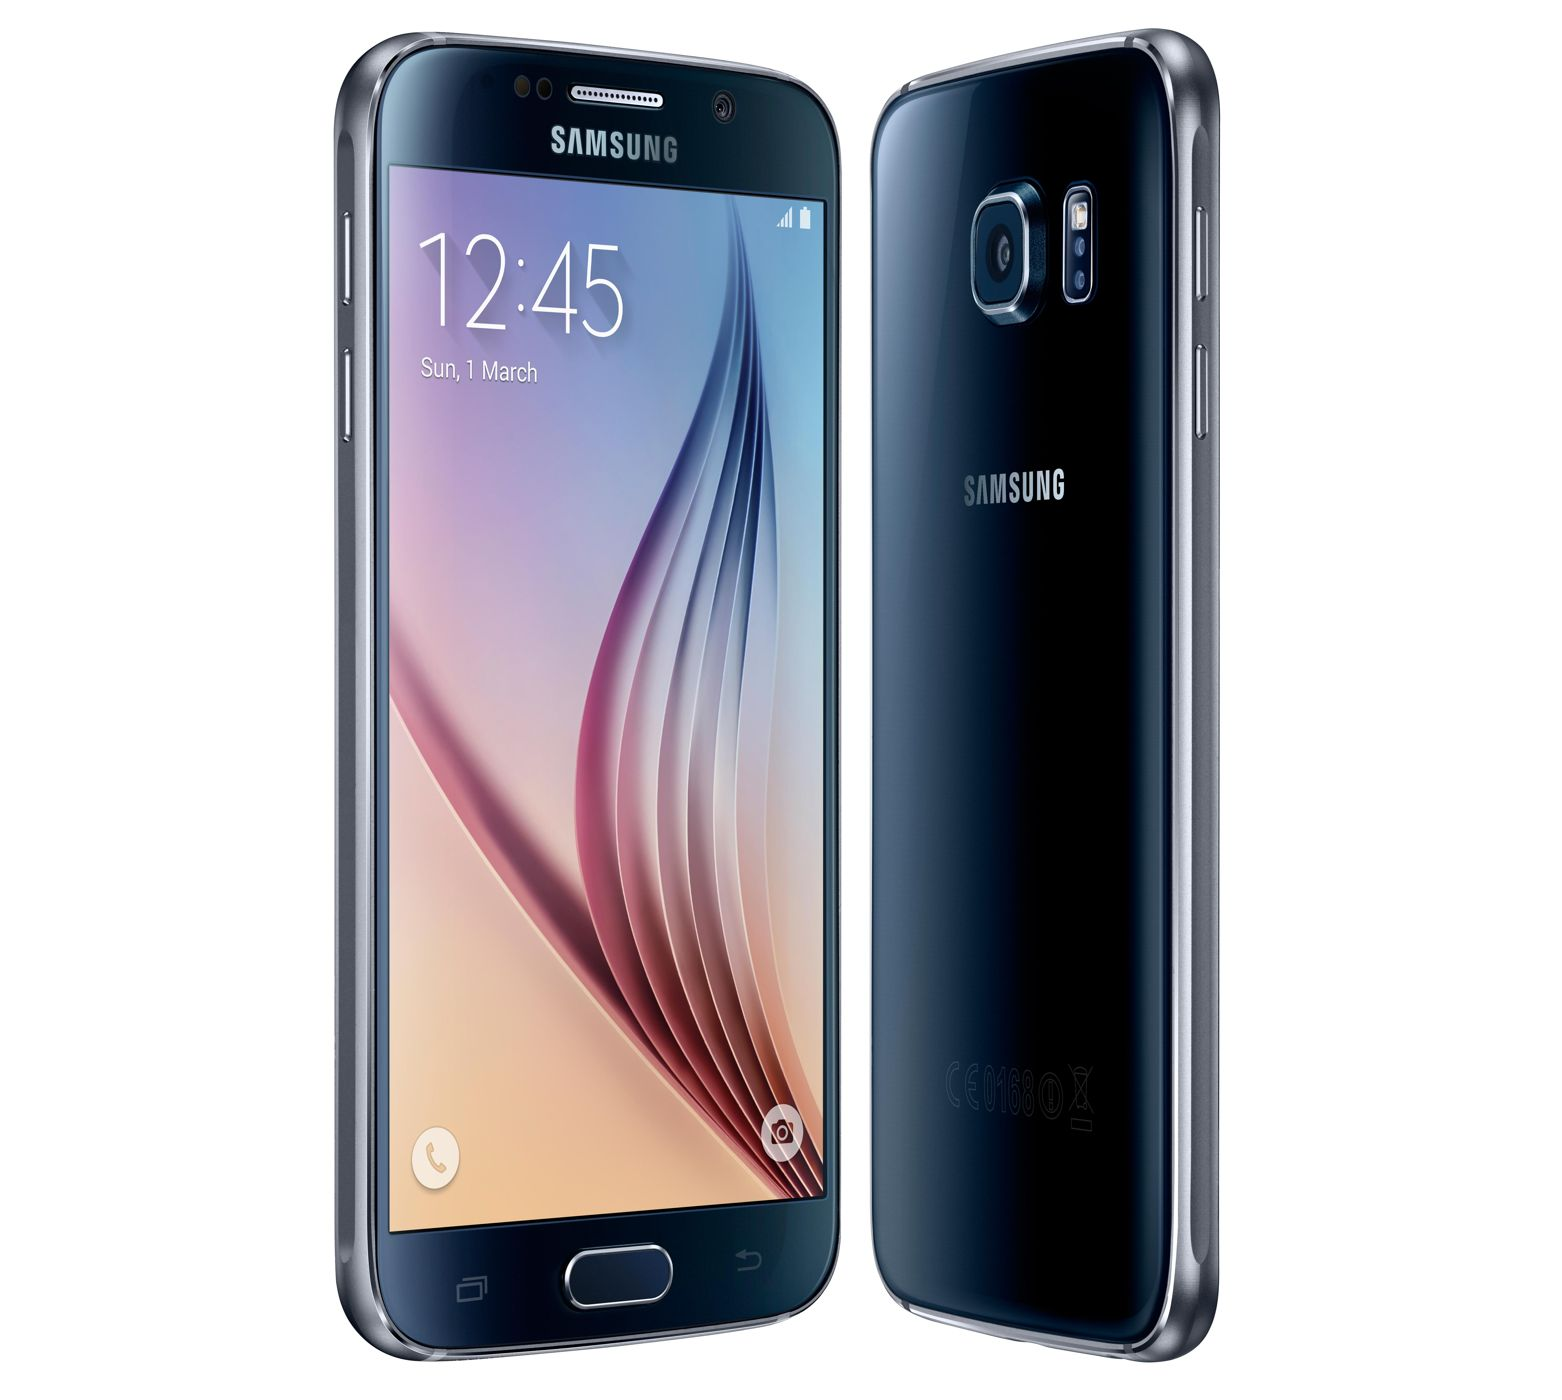smartphone: (330, 31, 840, 1359), (867, 26, 1221, 1364)
